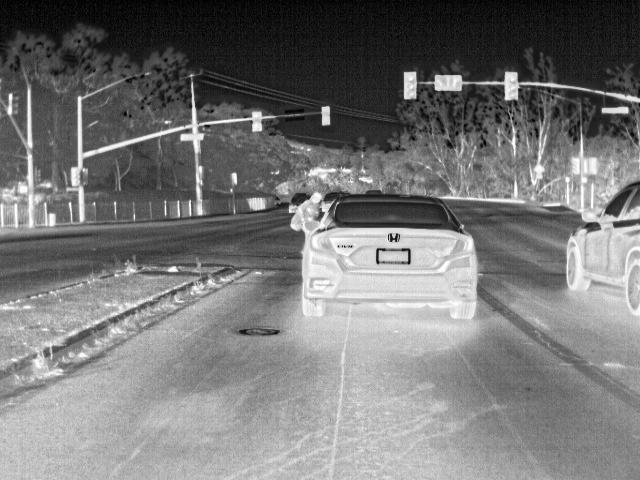car: (303, 193, 477, 320), (561, 178, 639, 316), (322, 190, 342, 209), (288, 192, 305, 211)
person: (302, 192, 322, 227)
